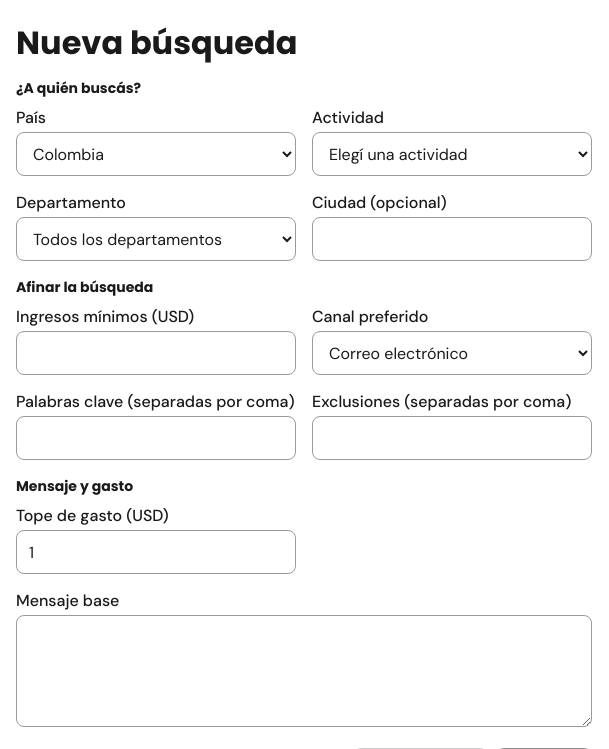
Scenario: buscar_deshabilitado_si_ninguna_fuente_cubre
Select "Elaboración de productos de panadería" in the dropdown labelled "Actividad" at (452, 154), box 312,132 -> 592,176
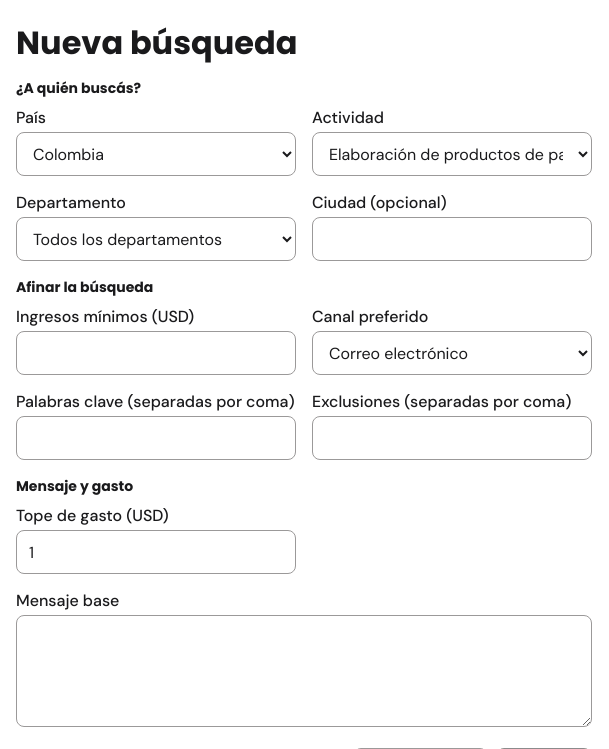
Type "pan, harina" into the field labelled "Palabras clave (separadas por coma)" at (156, 438), box 16,416 -> 296,460
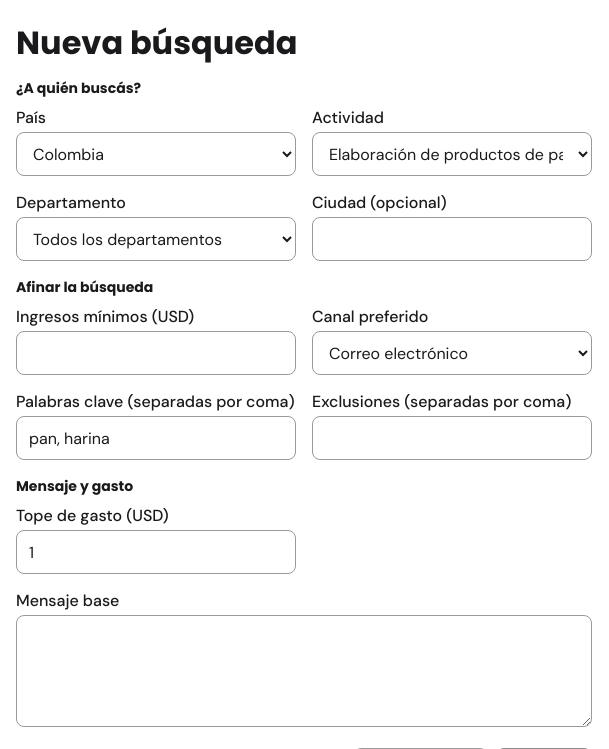
Replace the text in the number field labelled "Tope de gasto (USD)" with "5" at (156, 552), box 16,530 -> 296,574
(page scrolled)
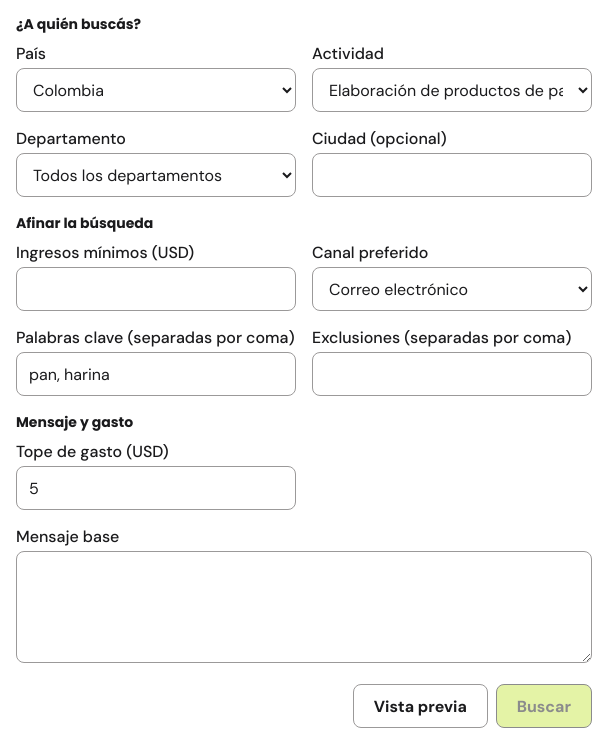
Click the button "Vista previa" at (420, 706), box 353,684 -> 488,728
(page scrolled)
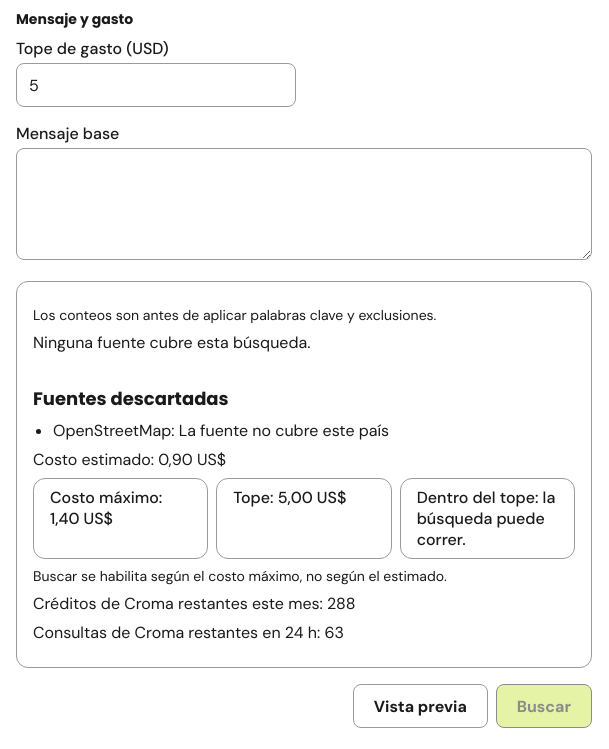
Expected: the button "Buscar" is disabled, 496,684 -> 592,728
Now the text "Ninguna fuente cubre esta búsqueda." is shown, box 33,332 -> 310,353
